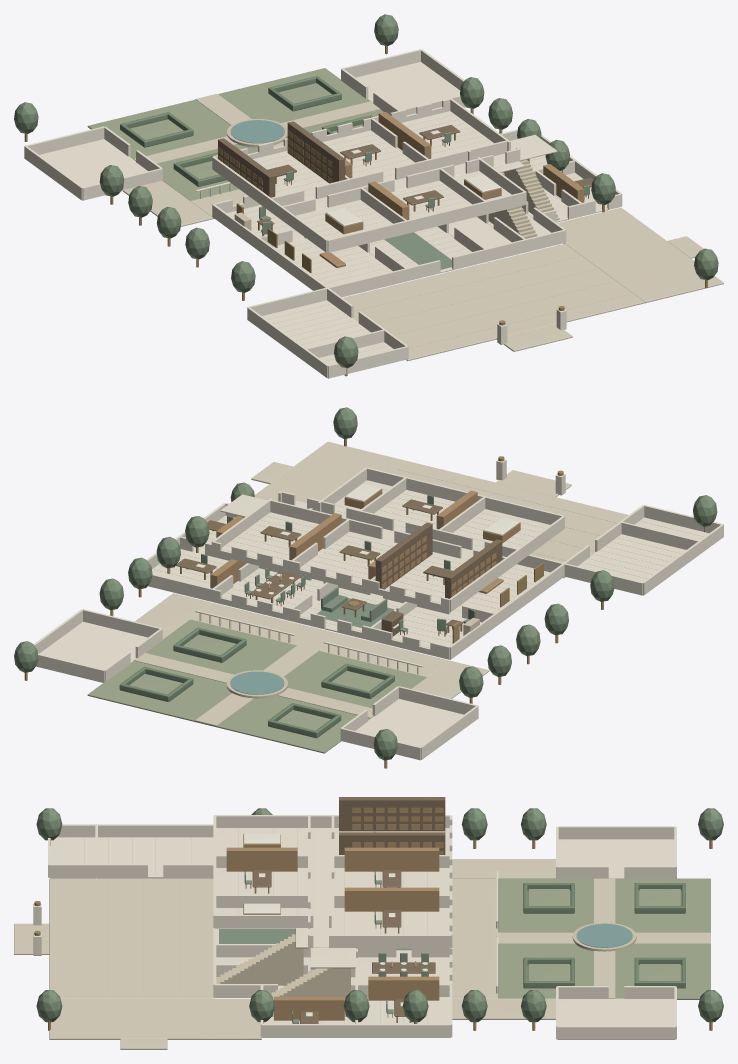
File: manor-v1.glb
3 views of the same model, one above another, from view 1: azimuth 30°, elevation 25°; view 2: azimuth 150°, elevation 25°; view 3: azimuth 270°, elevation 25° (orthographic). The views are drawn at different scales.
Visible parts, largest first — view 1: Floorplate_court, Floorplate_garden, Tree_crown, Floorplate_yard, wall_orangery, wall_guest, wall_coach, Boxwood_border, Bookcase, Floorplate_pavilion, Floorplate_coach, Floorplate_orangery (+40 smaller); view 2: Floorplate_garden, Tree_crown, Floorplate_court, Floorplate_terrace, Boxwood_border, Floorplate_yard, Garden_central_walk, wall_pavilion, wall_coach, wall_orangery, Bookcase, Floorplate_pavilion (+39 smaller); view 3: Floorplate_court, Floorplate_garden, Floorplate_yard, Tree_crown, Floorplate_terrace, Bookcase, Garden_central_walk, Floorplate_coach, Boxwood_border, Floorplate_orangery, wall_orangery, Floorplate_pavilion (+45 smaller).
Boxes of the visible parts, x1,y1,x2,y2 form: Floorplate_court: (343,243,644,361); Floorplate_garden: (87,68,383,200); Tree_crown: (14,14,718,368); Floorplate_yard: (557,207,723,303); wall_orangery: (24,126,162,200); wall_guest: (280,187,407,252); wall_coach: (247,288,385,360); Boxwood_border: (120,76,372,186); Bookcase: (218,121,344,197); Floorplate_pavilion: (356,62,460,109); Floorplate_coach: (262,300,370,348); Floorplate_orangery: (39,139,147,200); Floorplate_garden: (87,619,426,753); Tree_crown: (14,407,717,760); Floorplate_court: (390,461,628,578); Floorplate_terrace: (190,603,449,676); Boxwood_border: (119,627,394,738); Floorplate_yard: (254,441,406,502); Garden_central_walk: (133,645,373,726); wall_pavilion: (33,609,162,682); wall_coach: (564,521,701,595); wall_orangery: (340,686,478,760); Bookcase: (375,522,502,598); Floorplate_pavilion: (39,621,147,669); Floorplate_court: (49,878,214,998); Floorplate_garden: (498,878,710,999); Floorplate_yard: (49,998,261,1039); Tree_crown: (36,808,723,1022); Floorplate_terrace: (452,878,498,998); Bookcase: (339,797,445,854); Garden_central_walk: (498,878,710,998); Floorplate_coach: (97,837,213,878); Boxwood_border: (523,883,685,988); Floorplate_orangery: (558,839,674,878); wall_orangery: (556,826,676,879); Floorplate_pavilion: (558,998,674,1039).
Bounding box in the file's own units: 42.11 × 7.86 × 60.1.
